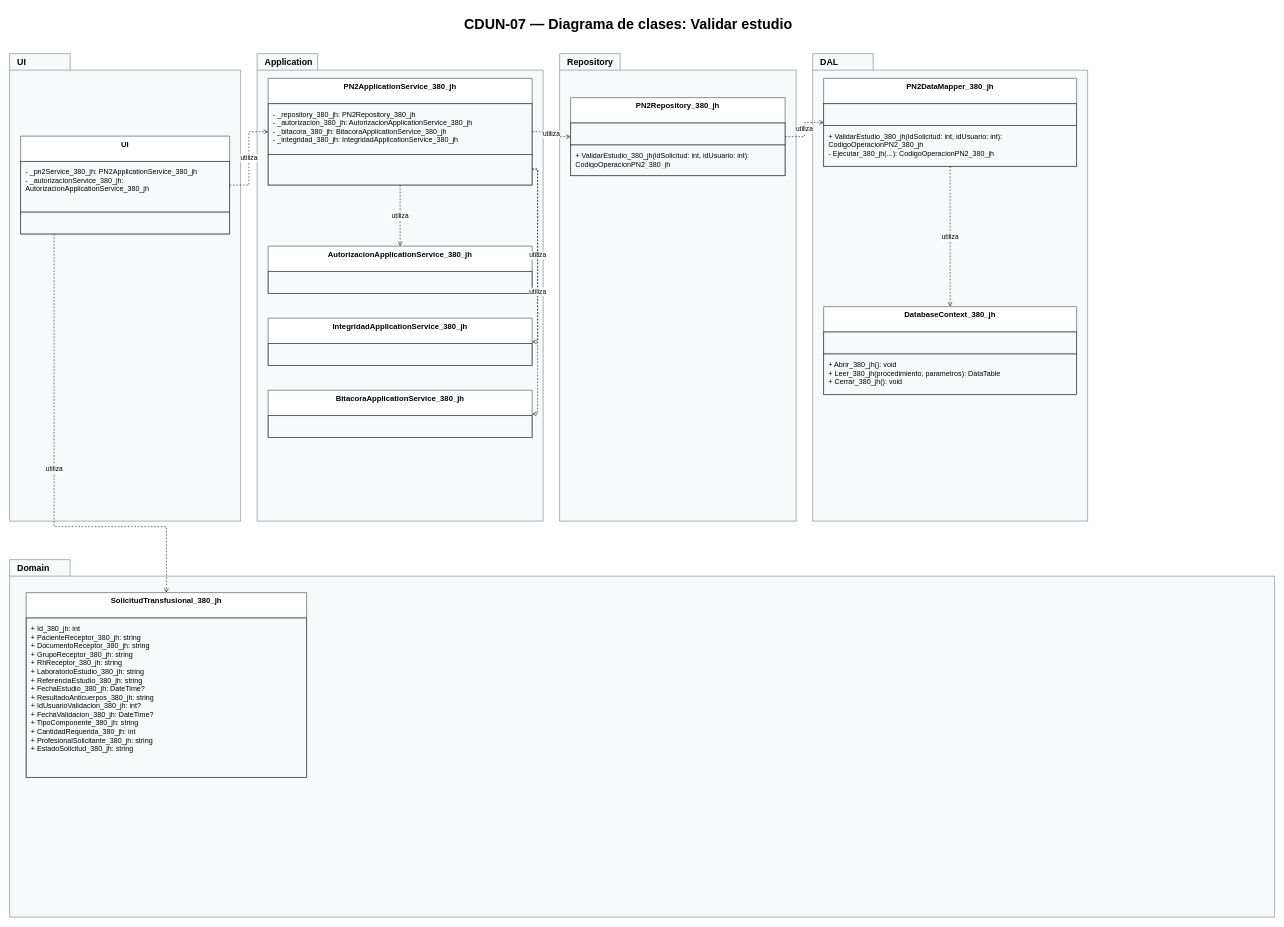
Some shapes in this 1284 by 927 pixel diagram are drawn without their labels. Here are the shapes that lost their labels. From the top down, the centre of each, then its label:
point (677, 133): - _mapper_380_jh: PN2DataMapper_380_jh
point (950, 114): - _databaseContext_380_jh: DatabaseContext_380_jh
point (400, 169): + ValidarEstudio_380_jh(idSolicitud: int): CodigoOperacionPN2_380_jh
point (125, 222): - ValidarEstudio_Click_380_jh(sender, e): void
point (400, 282): + TienePermiso_380_jh(usuario, codigo): bool
point (400, 354): + Verificar_380_jh(): InformeIntegridad_380_jh
point (950, 342): + Conexion_380_jh: SqlConnection
point (400, 426): + RegistrarEvento_380_jh(...): bool
